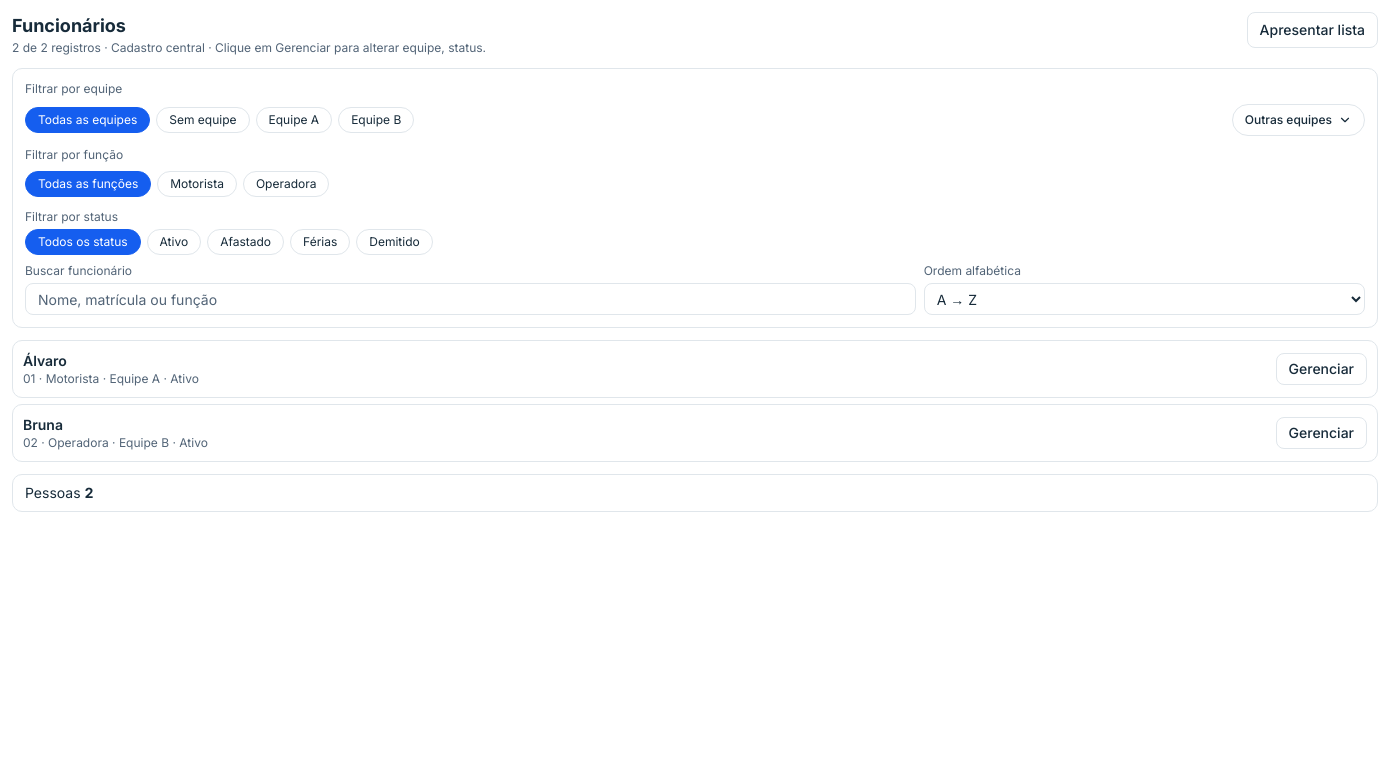
abas de listas do WF Programador › does not enter presentation with unsaved employee edits
The width and height of the screenshot is (1390, 780).
Step 1. Click the button with aria-label "Gerenciar Álvaro" → x=1321, y=369, box [1276,353,1367,385]
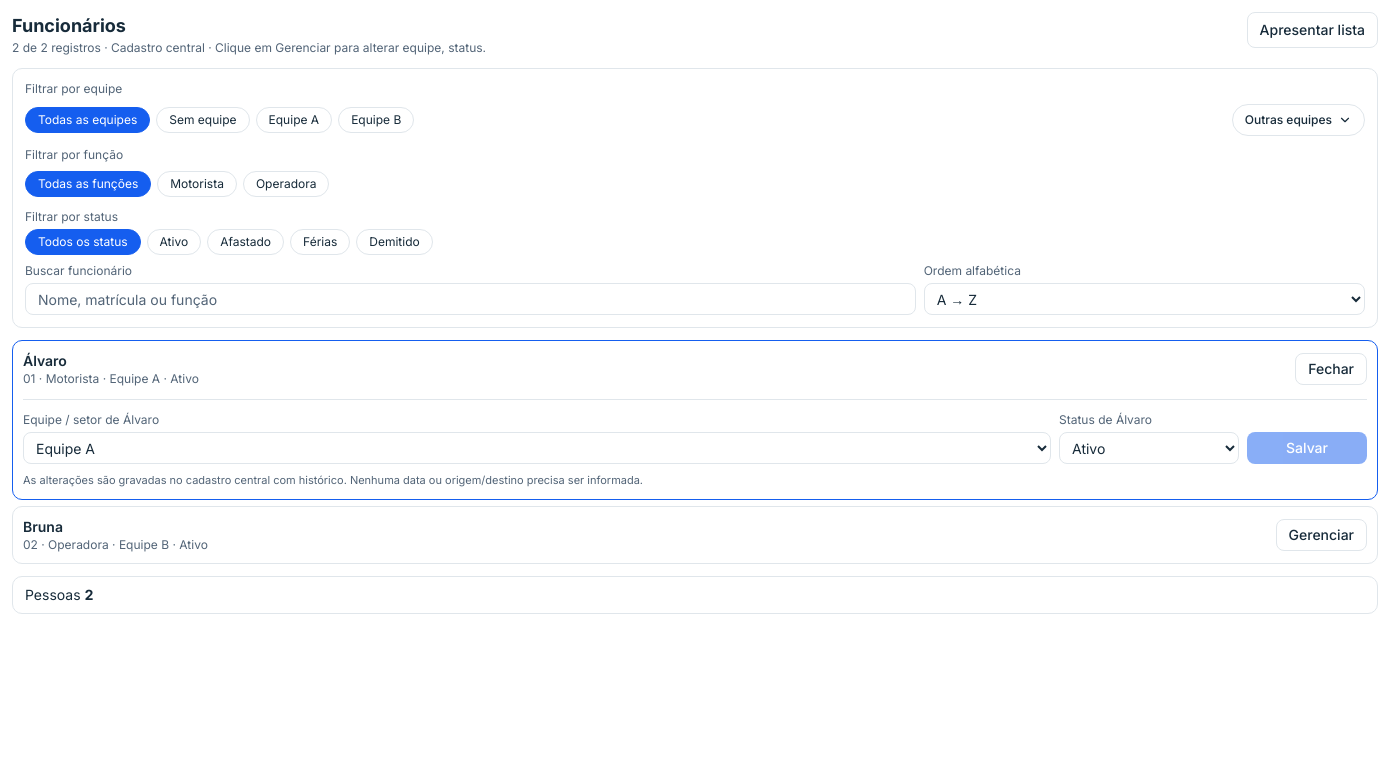
Step 2. Select "Afastado" in the dropdown labelled "Status de Álvaro" → x=1149, y=448, box [1059,432,1239,464]
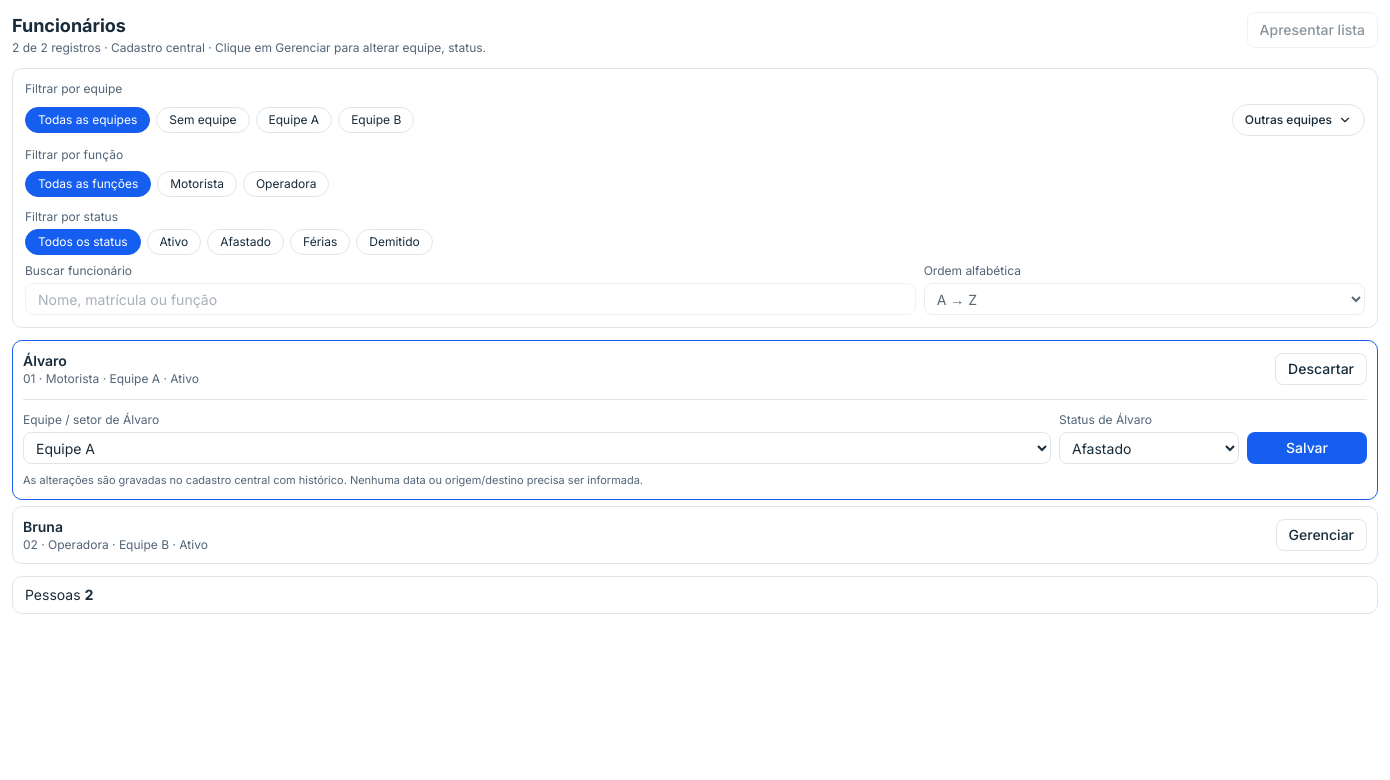
Result: the button "Apresentar lista" is disabled at [1246,12,1378,48]
